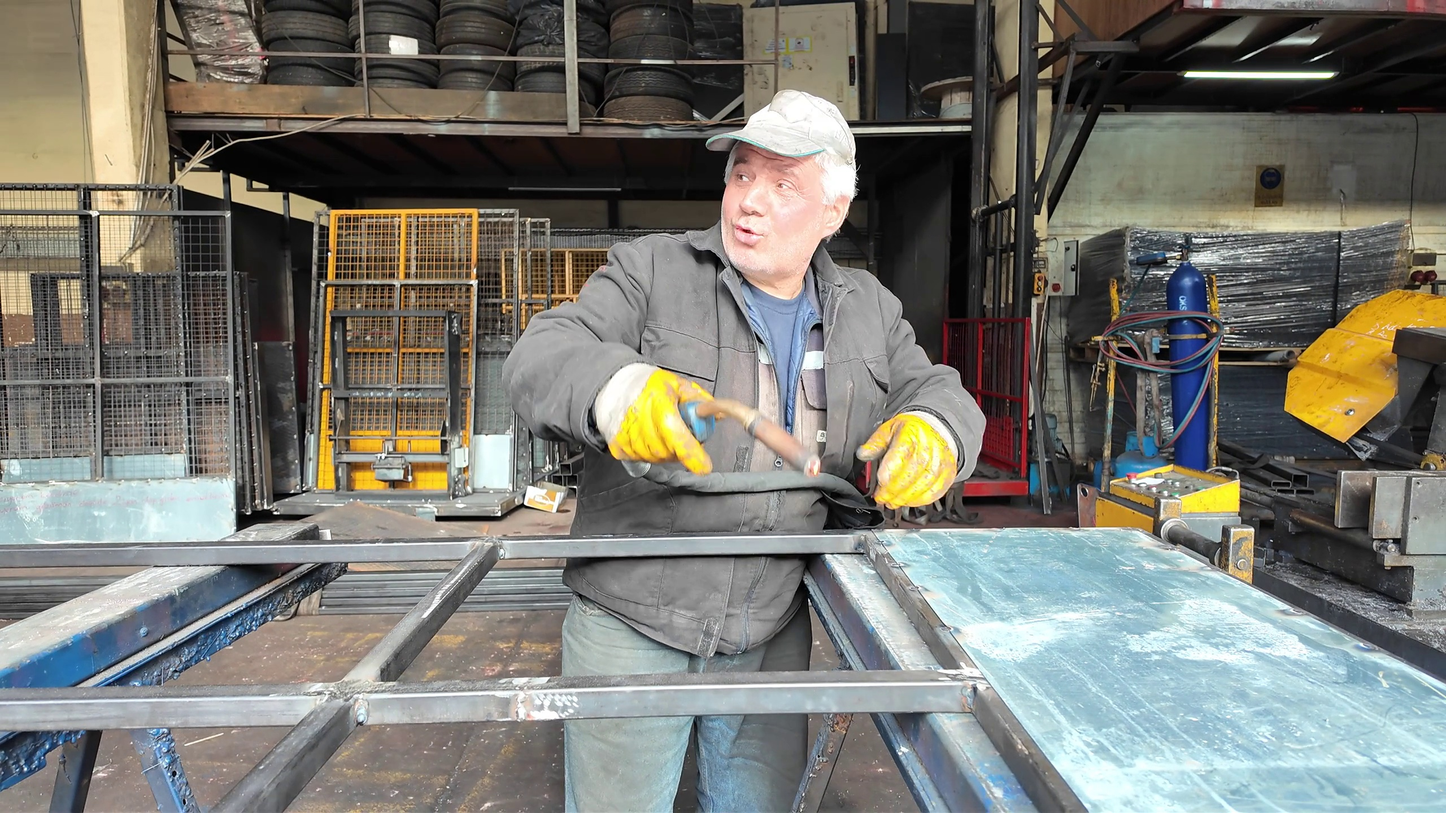person: (504, 88, 987, 813)
